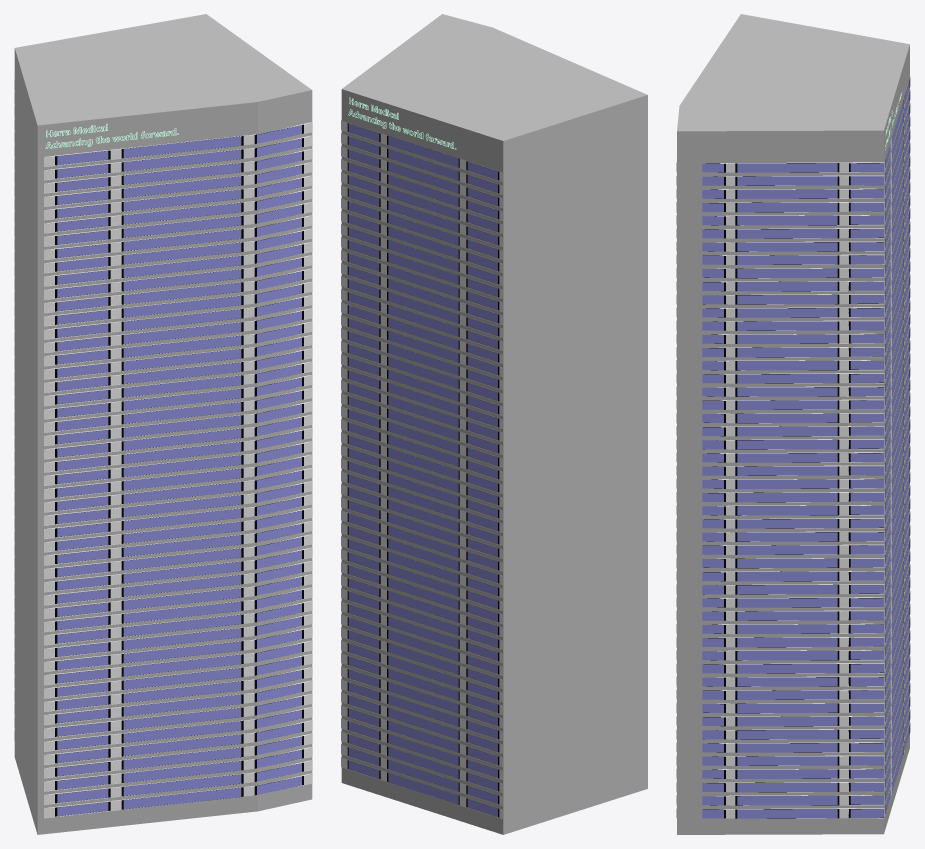
Rendered from 1FranciscoStreet.fbx.
The picture shows the model from 3 angles, left to right: view 1: azimuth 30°, elevation 25°; view 2: azimuth 150°, elevation 25°; view 3: azimuth 270°, elevation 25°; orthographic projection. The views are drawn at different scales.
Visible parts, largest first — view 1: Window.001, 1FranciscoStreet, Window.002, Text.001; view 2: 1FranciscoStreet, Window, Text; view 3: Window.002, 1FranciscoStreet, Window, Window.001.
Part boxes in pixels (x1,y1,x2,y2): Window.001: (44, 122, 312, 818); 1FranciscoStreet: (14, 14, 312, 834); Window.002: (309, 123, 310, 784); Text.001: (45, 123, 178, 148); 1FranciscoStreet: (341, 14, 647, 834); Window: (341, 120, 502, 819); Text: (348, 97, 456, 149); Window.002: (676, 162, 884, 818); 1FranciscoStreet: (677, 14, 909, 834); Window: (884, 76, 910, 817); Window.001: (676, 159, 676, 818).
Size of the model in its own units: 5065 by 14156 by 4269.
